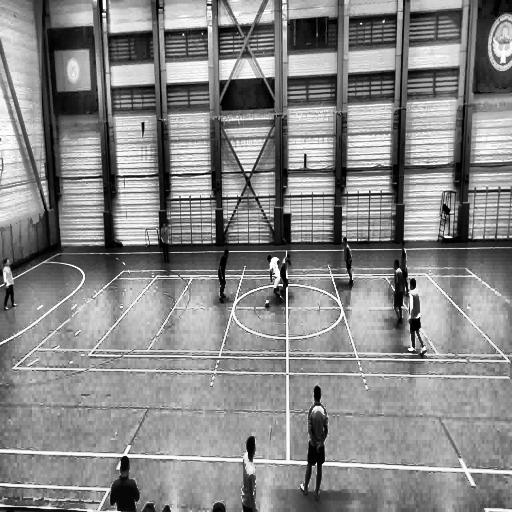ball: (265, 300, 269, 308)
player: (301, 386, 327, 501), (407, 278, 426, 357), (242, 436, 258, 512), (396, 236, 410, 296), (3, 257, 18, 310), (267, 254, 283, 302), (393, 259, 404, 327), (342, 238, 354, 287), (218, 248, 228, 302), (281, 251, 292, 298), (160, 222, 170, 262)
